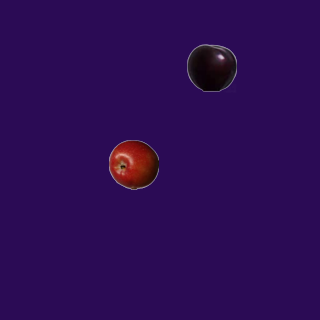Apple Braeburn: (108, 139, 158, 189)
Cherry Wax Black: (186, 42, 236, 92)
